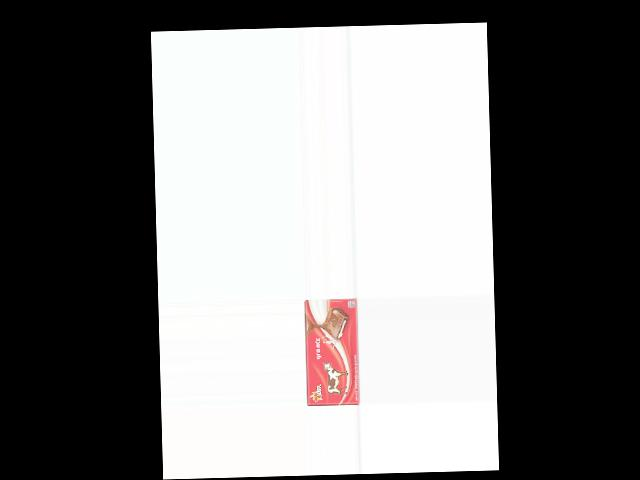chocolate: (304, 298, 360, 408)
